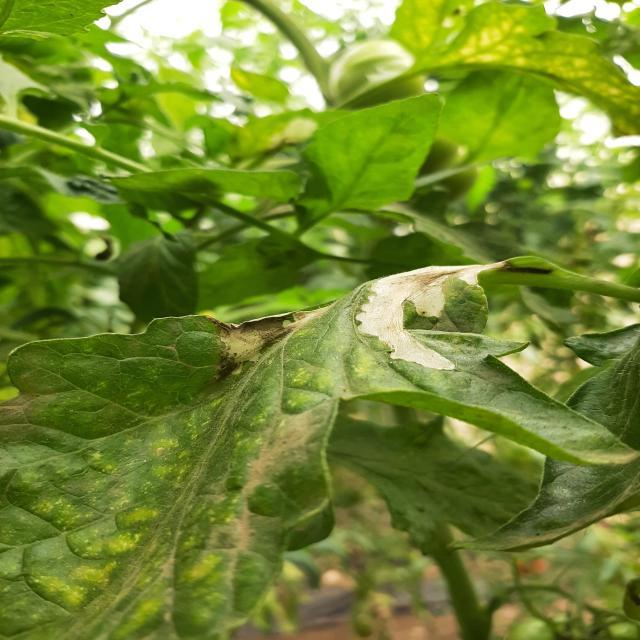Tuta absoluta: (346, 216, 504, 384)
